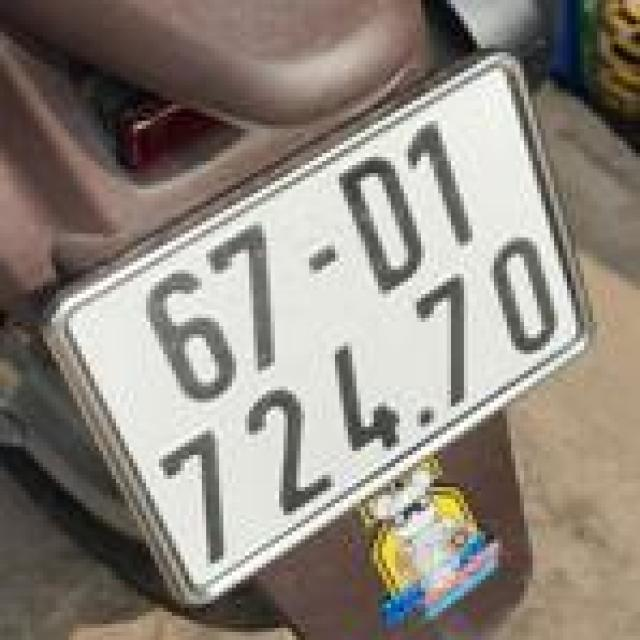0: (477, 216, 574, 370)
1: (393, 97, 502, 262)
2: (231, 371, 350, 532)
4: (315, 320, 420, 479)
6: (124, 256, 250, 421)
7: (198, 210, 328, 390), (401, 262, 510, 428), (149, 417, 258, 574)
D: (321, 135, 444, 306)
